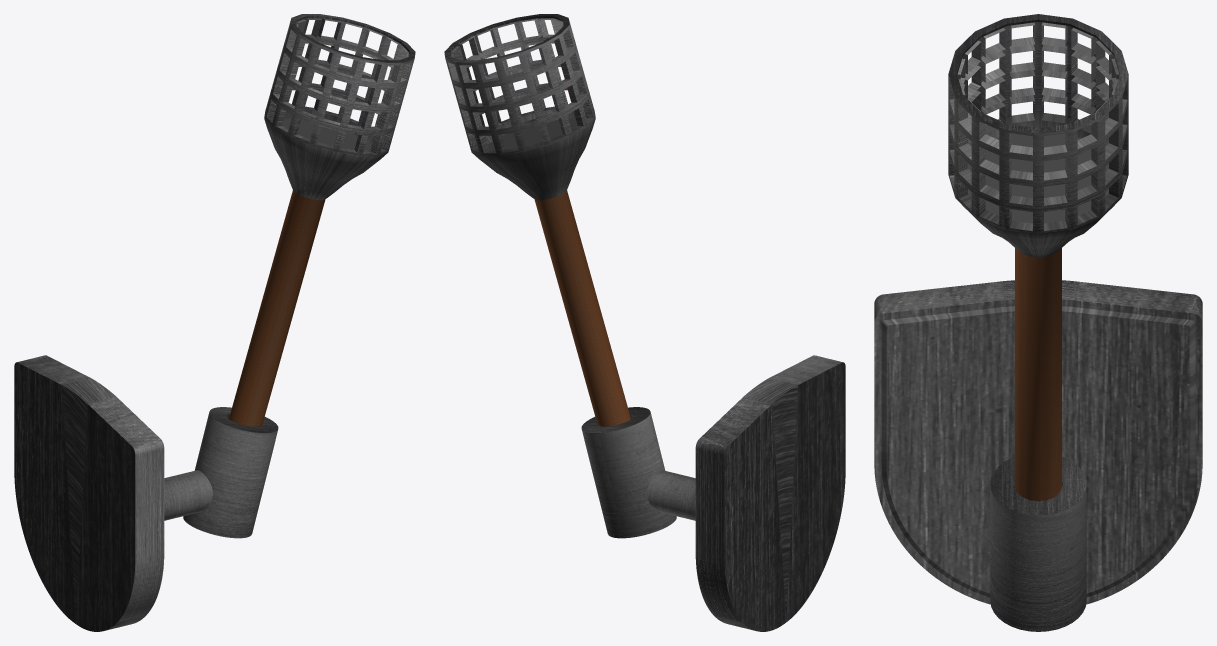
File: torch4.fbx
3 renders of one model, left to right at view 1: azimuth 30°, elevation 25°; view 2: azimuth 150°, elevation 25°; view 3: azimuth 270°, elevation 25°, orthographic. The views are drawn at different scales.
Visible parts, largest first — view 1: Cube, Cylinder, Cylinder.001, Cylinder.002; view 2: Cube, Cylinder, Cylinder.001, Cylinder.002; view 3: Cube, Cylinder, Cylinder.001.
Part boxes in pixels (left/top/right/bottom): Cube: left=14, top=355, right=164, bottom=631; Cylinder: left=229, top=14, right=415, bottom=426; Cylinder.001: left=183, top=407, right=278, bottom=538; Cylinder.002: left=164, top=470, right=212, bottom=520; Cube: left=695, top=355, right=845, bottom=631; Cylinder: left=444, top=14, right=630, bottom=426; Cylinder.001: left=581, top=407, right=676, bottom=538; Cylinder.002: left=647, top=470, right=695, bottom=520; Cube: left=874, top=280, right=1202, bottom=604; Cylinder: left=948, top=14, right=1128, bottom=501; Cylinder.001: left=990, top=456, right=1086, bottom=631.
Size of the model in its own units: 730 by 1123 by 460.
